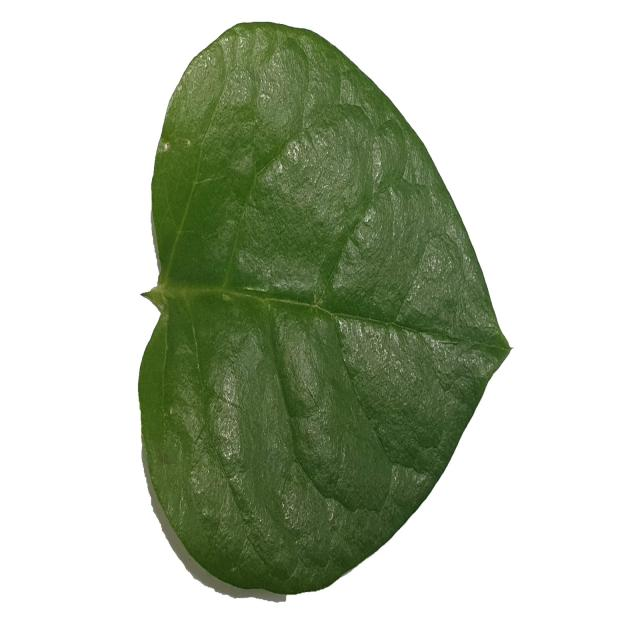Medicinal-Basale: (137, 21, 512, 594)
